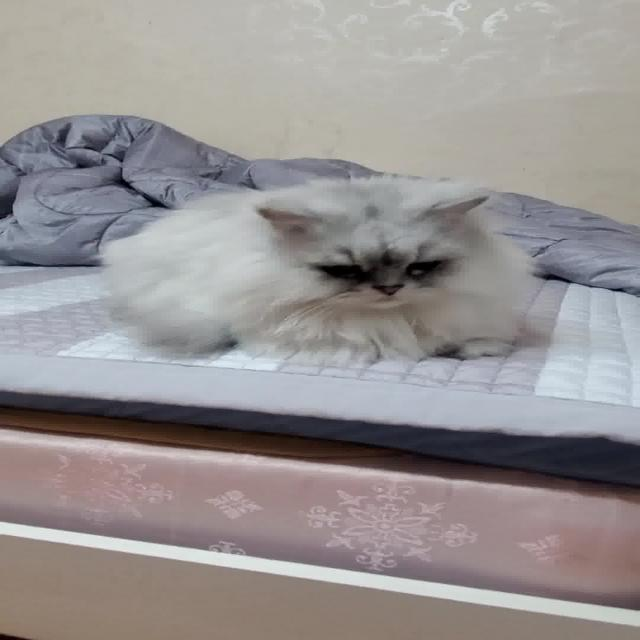cat: (77, 158, 551, 370)
